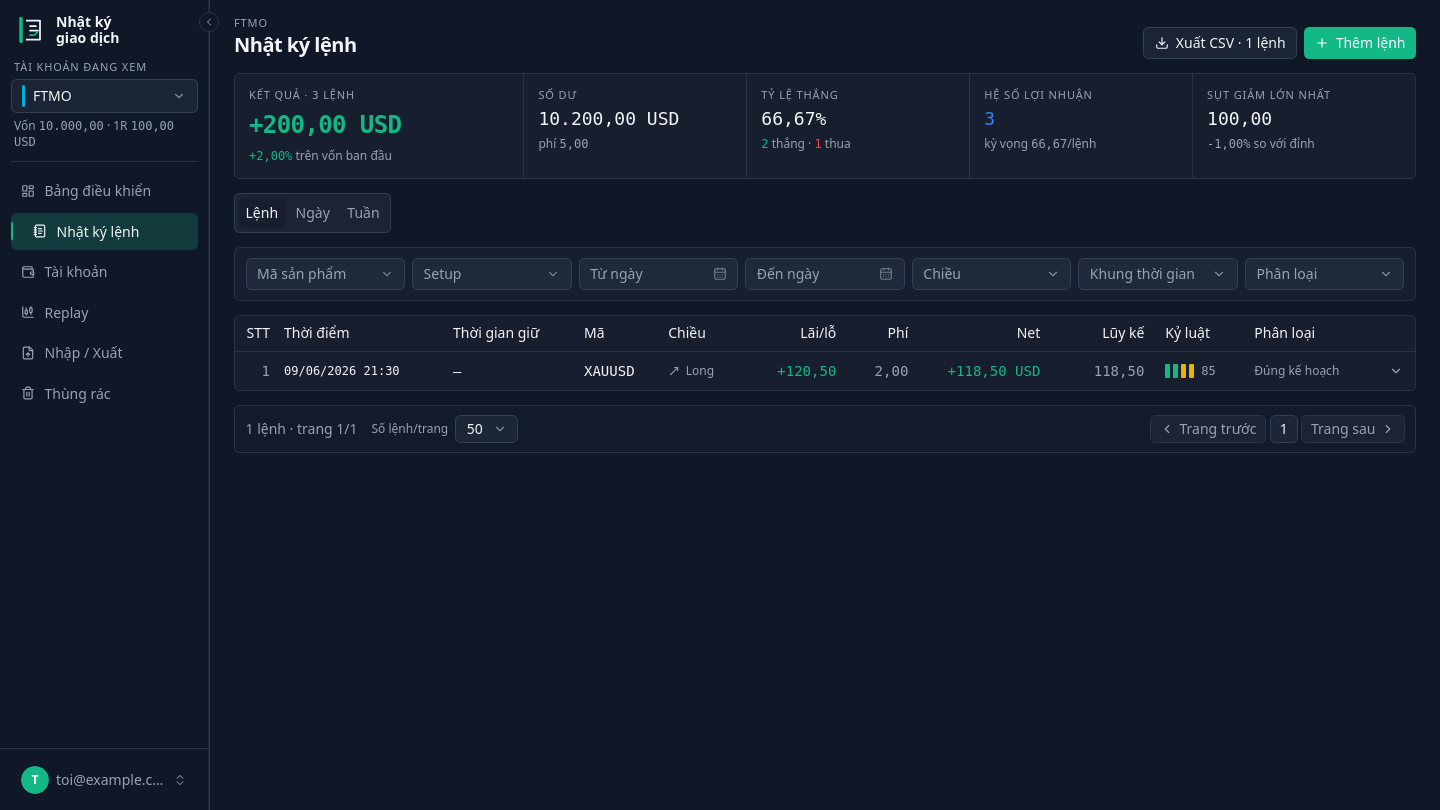
đổi tài khoản ở sidebar thì bảng lệnh đổi theo
Check: the text "XAUUSD" is shown, box [577,351,661,390]
Click the button named "Thu gọn thanh điều hướng": [209, 22] box [199,12,219,32]
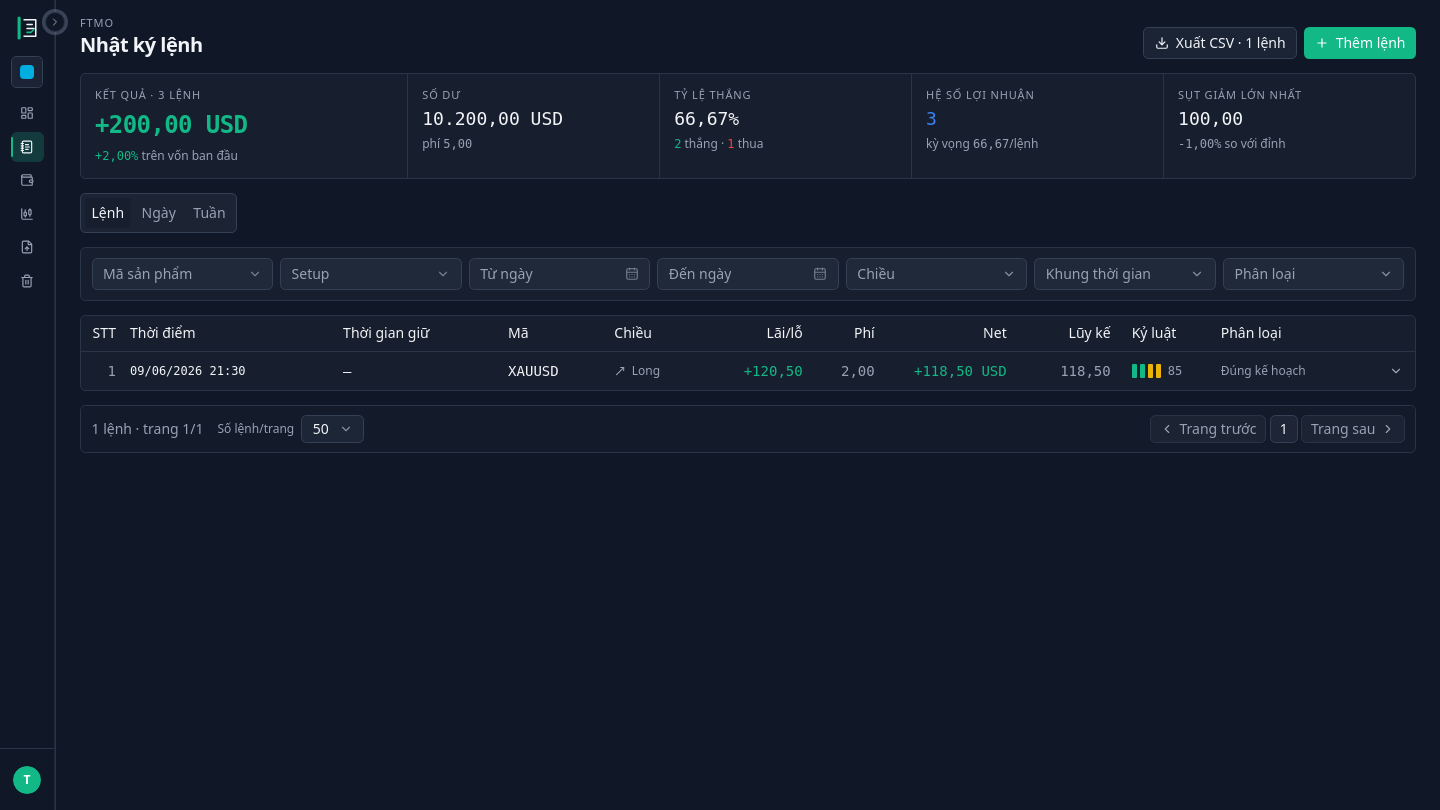
Check: the dropdown named "tài khoản đang xem: FTMO" has attribute title="FTMO"
Click the dropdown named "tài khoản đang xem: FTMO": [27, 72] box [11,56,43,88]
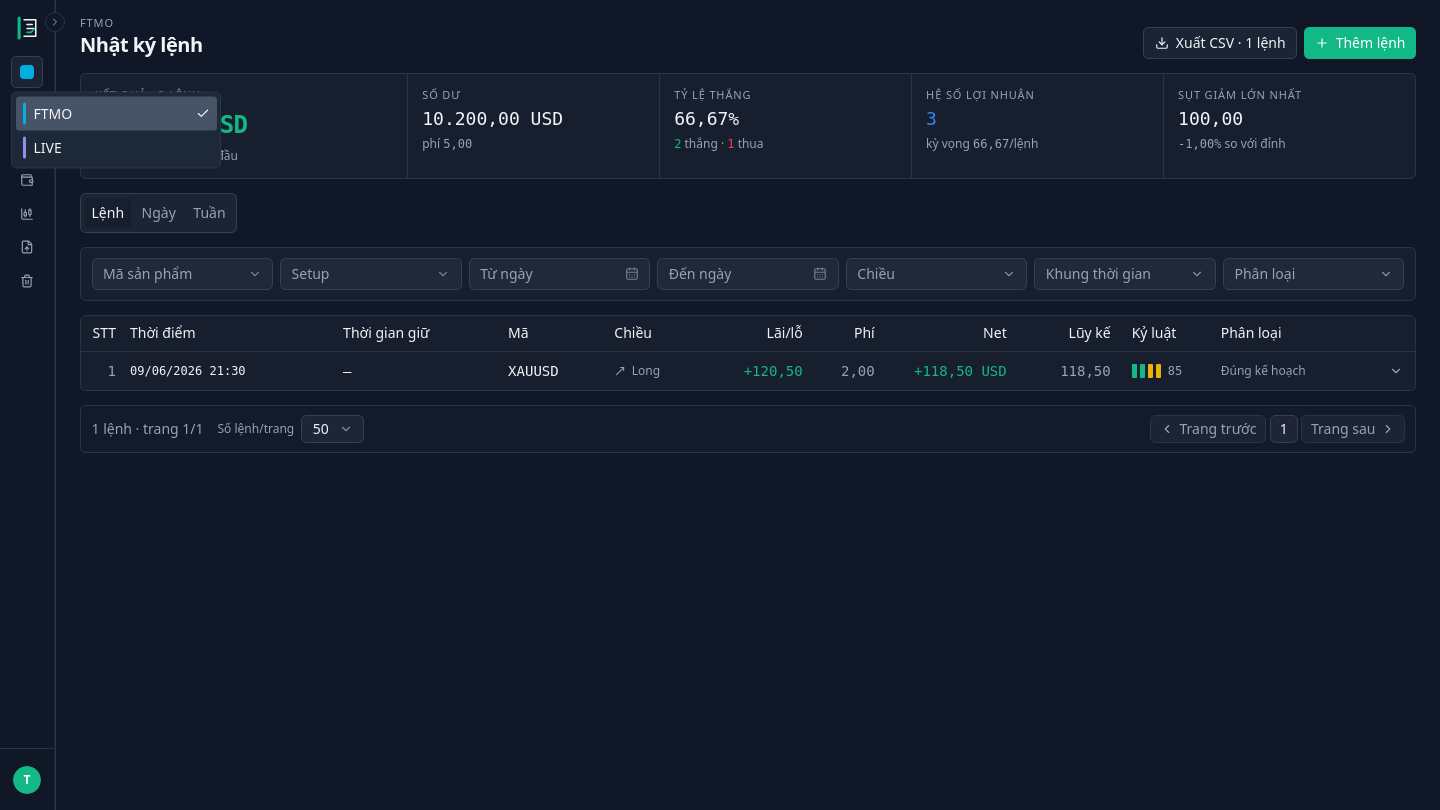
Click the option "LIVE": [42, 147] box [22,136,62,158]
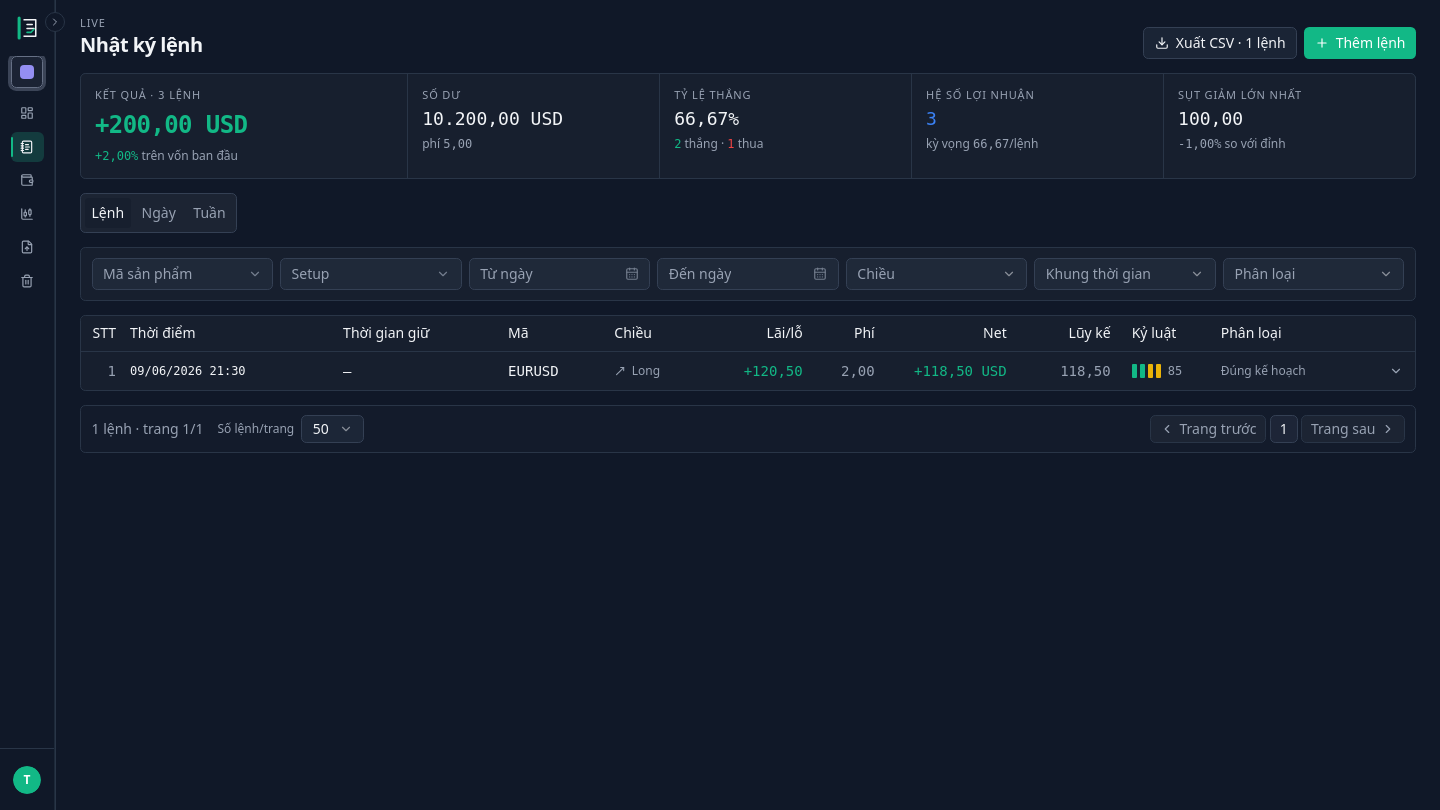
Check: the text "EURUSD" is shown, box [501,351,607,390]
